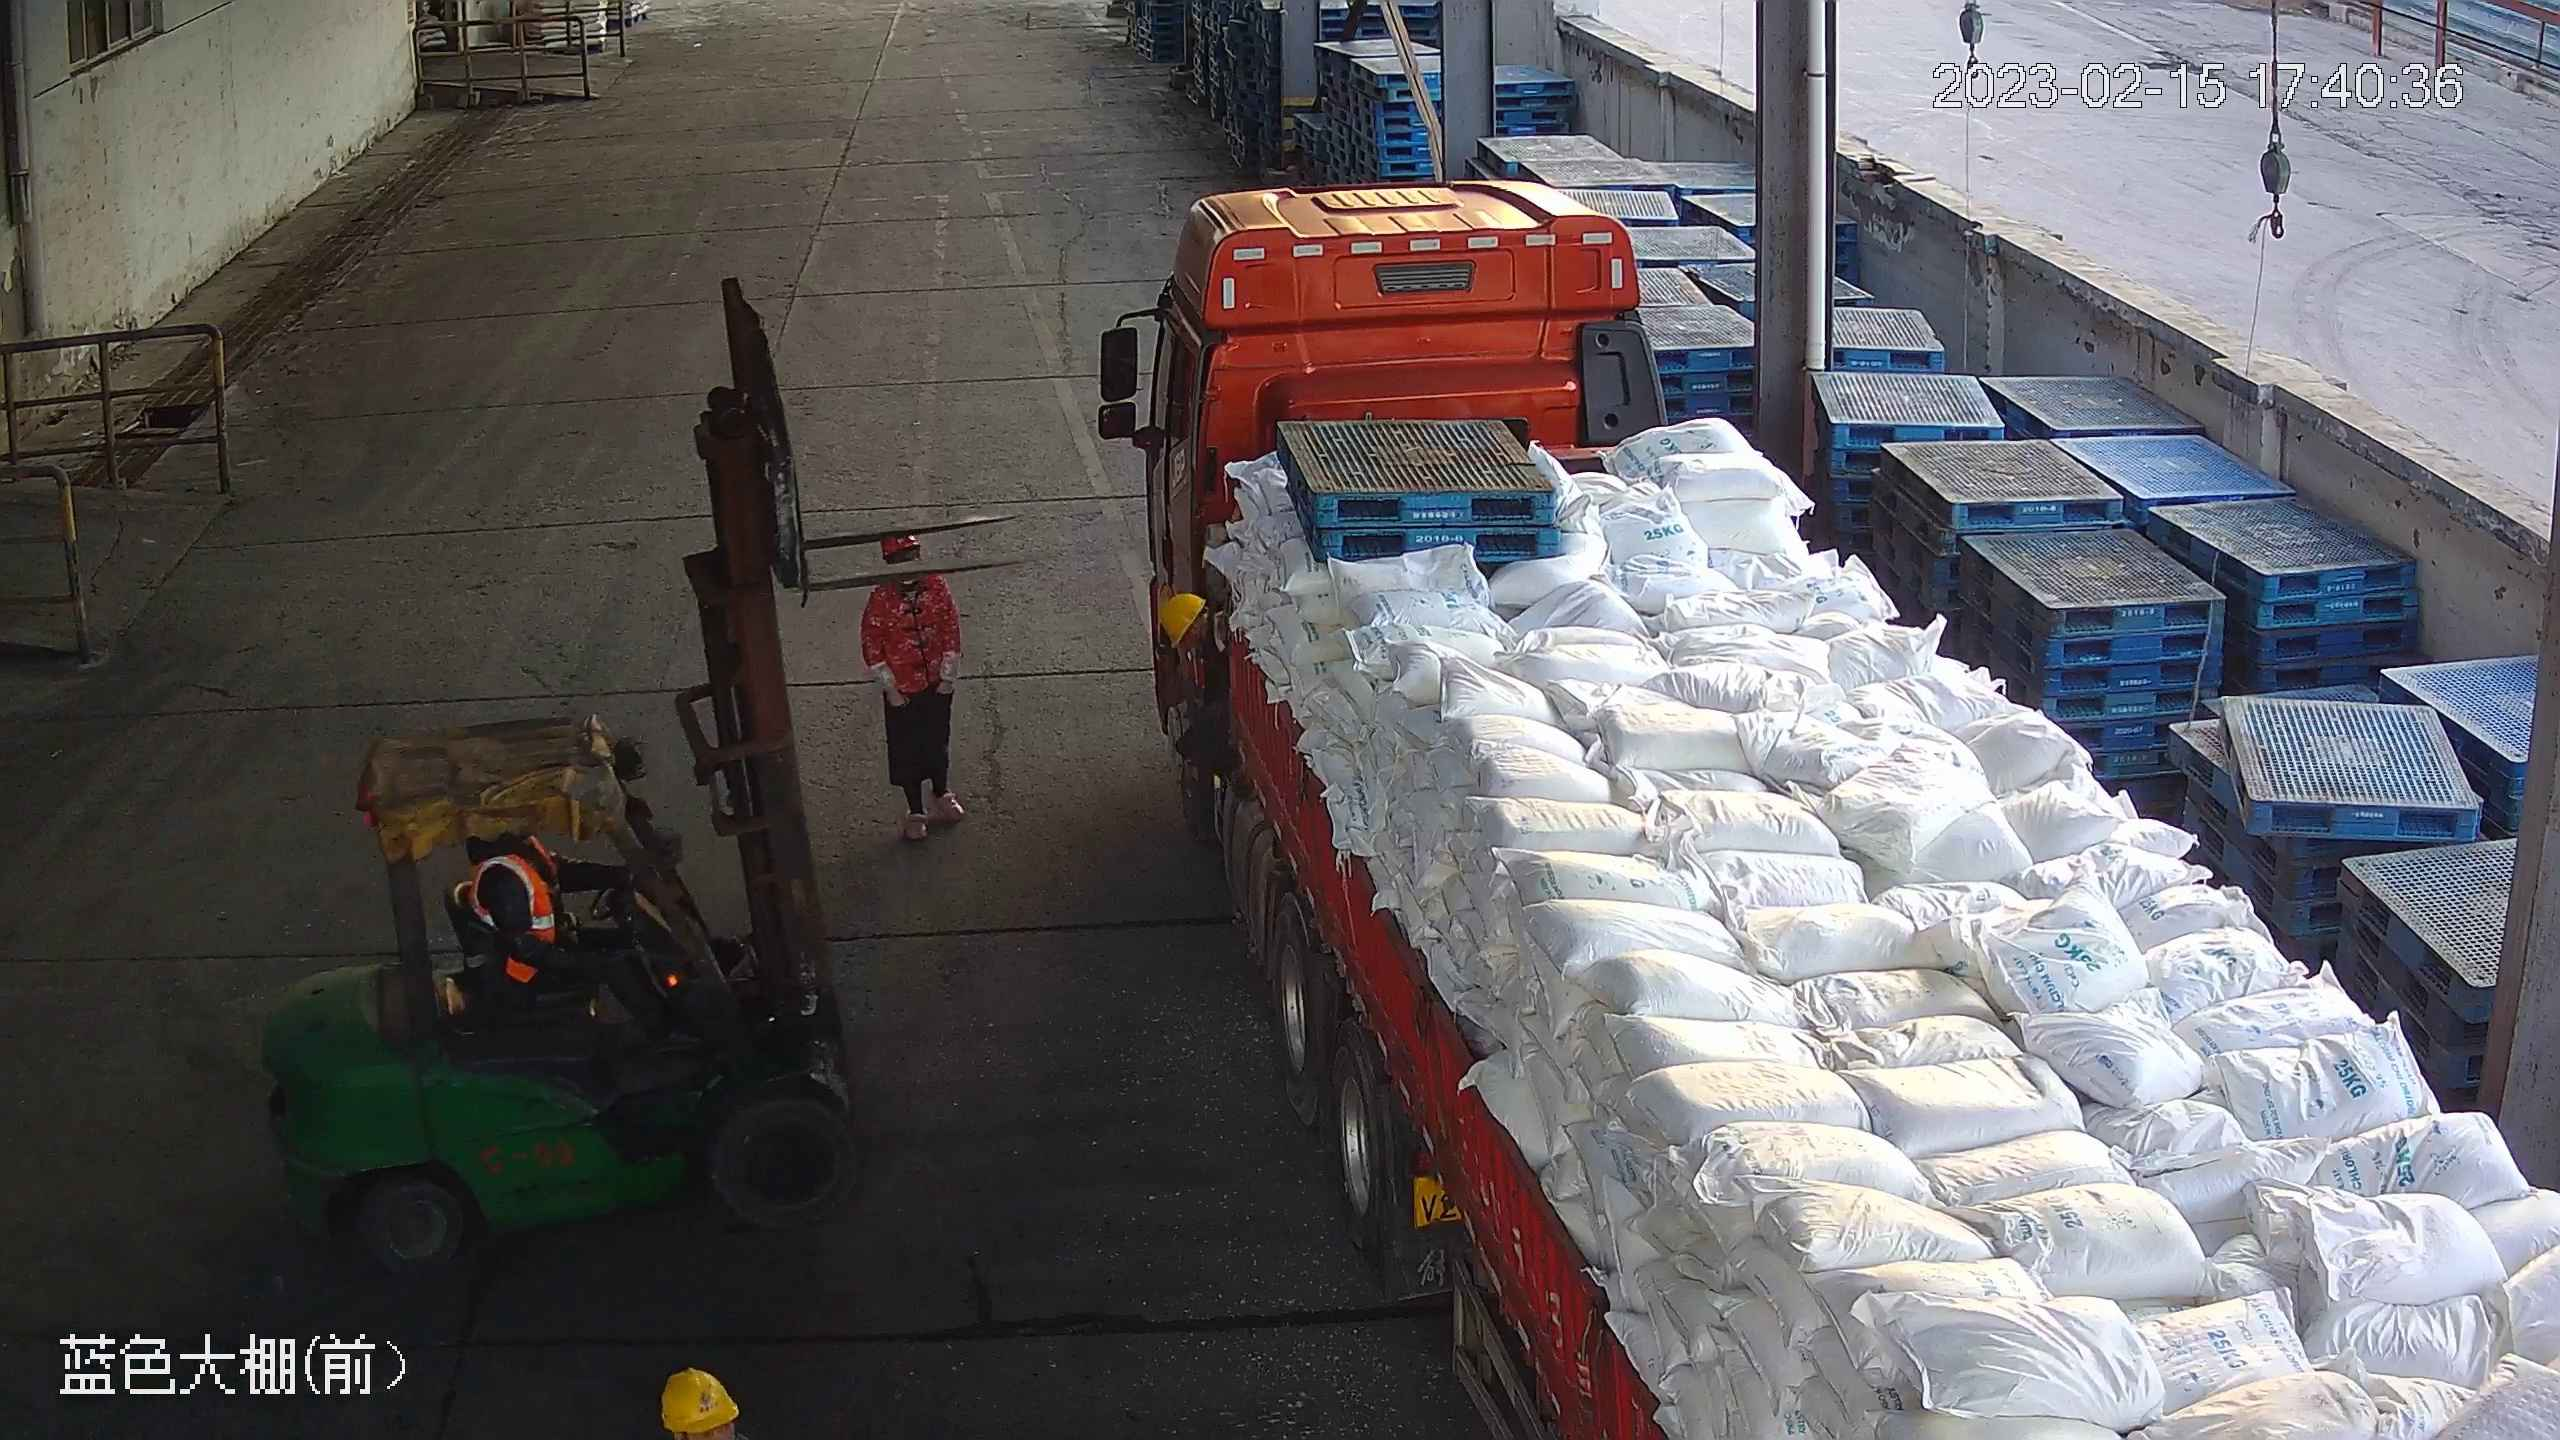head: (462, 816, 559, 889), (870, 535, 947, 608)
helmet: (1157, 592, 1205, 648)
people: (453, 826, 697, 1050), (864, 532, 968, 846)
truck: (1139, 182, 2560, 1440)
